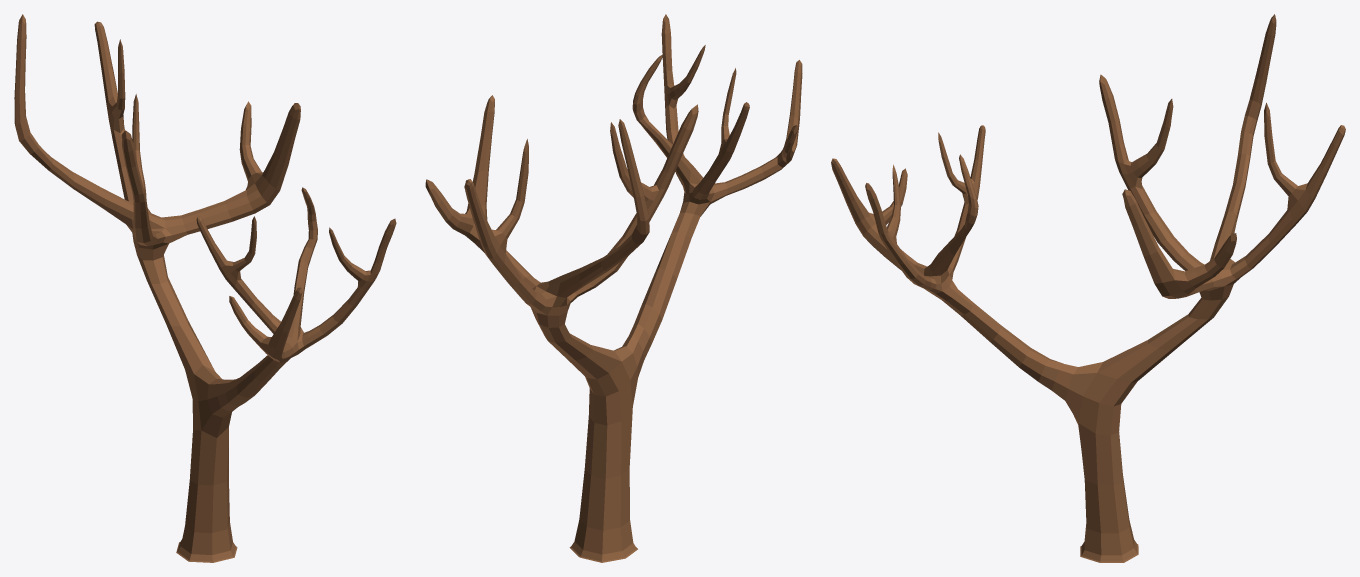
File: nature-commontree-dead-1.glb
3 renders of one model, left to right at view 1: azimuth 30°, elevation 25°; view 2: azimuth 150°, elevation 25°; view 3: azimuth 270°, elevation 25°, orthographic. The views are drawn at different scales.
Visible parts, largest first — view 1: CommonTree_Dead_1; view 2: CommonTree_Dead_1; view 3: CommonTree_Dead_1.
Boxes of the visible parts, x1,y1,x2,y2 form: CommonTree_Dead_1: (14, 14, 396, 562); CommonTree_Dead_1: (425, 14, 802, 562); CommonTree_Dead_1: (831, 14, 1345, 562).
Size of the model in its own units: 104 by 222 by 212.
